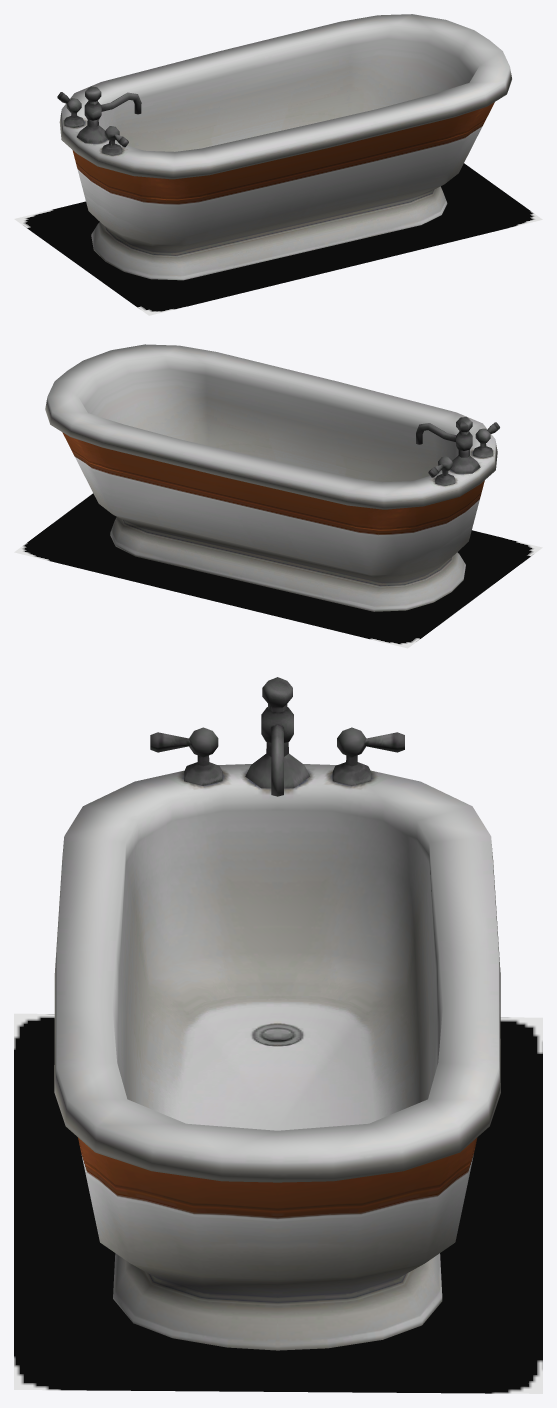
The model's file is jj_ty_bathtubs08_01.FBX.
The picture shows the model from 3 angles, top to bottom: view 1: azimuth 30°, elevation 25°; view 2: azimuth 150°, elevation 25°; view 3: azimuth 270°, elevation 25°; orthographic projection. The views are drawn at different scales.
Visible parts, largest first — view 1: jj_ty_bathtubs08_01, shadow; view 2: jj_ty_bathtubs08_01, shadow; view 3: jj_ty_bathtubs08_01, shadow.
Boxes of the visible parts, x1,y1,x2,y2 form: jj_ty_bathtubs08_01: (57, 14, 511, 280); shadow: (14, 163, 542, 315); jj_ty_bathtubs08_01: (45, 344, 499, 611); shadow: (14, 493, 542, 648); jj_ty_bathtubs08_01: (54, 677, 500, 1350); shadow: (14, 1013, 542, 1393).
Size of the model in its own units: 77.95 by 32.57 by 43.96.
Materials: 2 (2 with a texture image).
